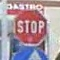stop: (11, 6, 48, 46)
